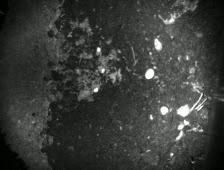corn: (153, 36, 164, 53), (143, 67, 156, 80), (96, 63, 106, 76), (91, 82, 100, 93), (93, 46, 102, 56)
